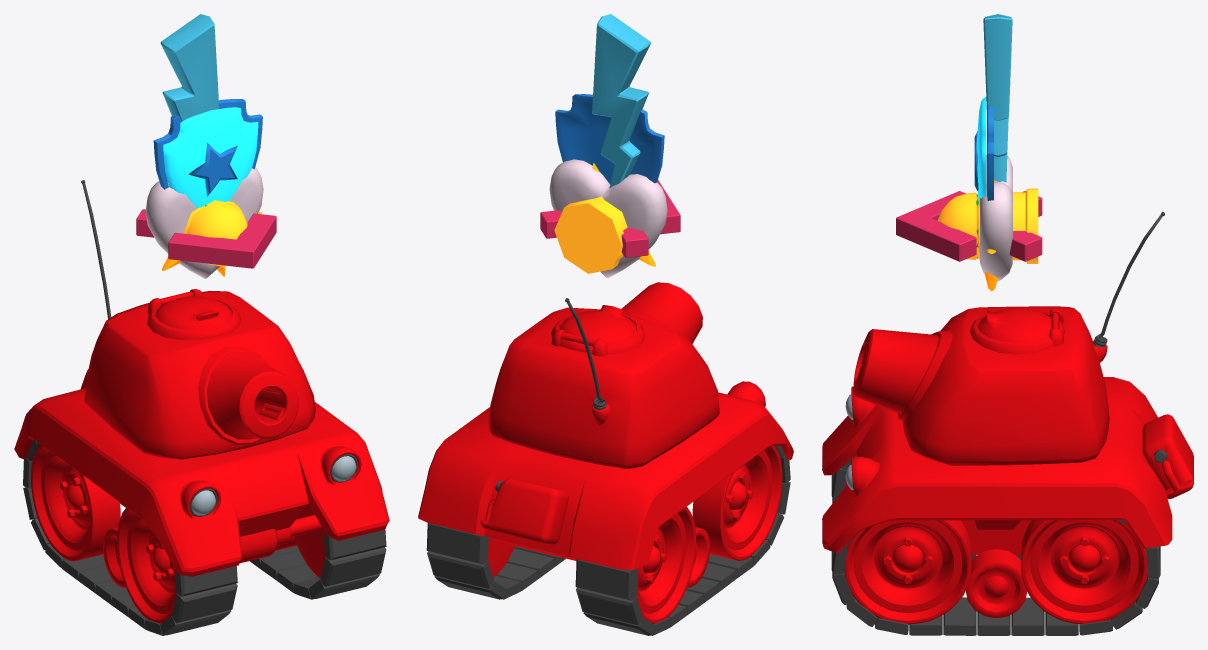
Rendered from Tank.fbx.
The picture shows the model from 3 angles, left to right: view 1: azimuth 30°, elevation 25°; view 2: azimuth 150°, elevation 25°; view 3: azimuth 270°, elevation 25°; orthographic projection. The views are drawn at different scales.
Visible parts, largest first — view 1: TankChassis, TankTurret, TankTracksRight, TankTracksLeft, SheltdFront, EnhanchedShootingIndicator, EnhancedSpeedIndicator, Heart, EnhancedShellIndicator, Sheild, mesh_x_coin_1_new002; view 2: TankChassis, TankTurret, TankTracksRight, TankTracksLeft, EnhanchedShootingIndicator, Heart, Sheild, EnhancedShellIndicator, EnhancedSpeedIndicator; view 3: TankChassis, TankTurret, TankTracksLeft, EnhancedSpeedIndicator, EnhanchedShootingIndicator, Heart, EnhancedShellIndicator, SheltdFront, Sheild.
Boxes of the visible parts, <box> form: TankChassis: <box>14,369,389,587</box>; TankTurret: <box>81,180,315,459</box>; TankTracksRight: <box>23,439,237,635</box>; TankTracksLeft: <box>249,504,386,599</box>; SheltdFront: <box>163,107,258,207</box>; EnhanchedShootingIndicator: <box>160,14,218,124</box>; EnhancedSpeedIndicator: <box>136,209,276,268</box>; Heart: <box>145,167,263,278</box>; EnhancedShellIndicator: <box>183,200,247,266</box>; Sheild: <box>153,99,262,189</box>; mesh_x_coin_1_new002: <box>188,143,237,196</box>; TankChassis: <box>418,381,793,587</box>; TankTurret: <box>488,282,719,468</box>; TankTracksRight: <box>575,445,790,635</box>; TankTracksLeft: <box>426,523,565,599</box>; EnhanchedShootingIndicator: <box>592,14,650,188</box>; Heart: <box>549,159,667,278</box>; Sheild: <box>555,94,664,184</box>; EnhancedShellIndicator: <box>554,196,627,273</box>; EnhancedSpeedIndicator: <box>540,180,680,257</box>; TankChassis: <box>822,377,1193,617</box>; TankTurret: <box>853,211,1164,465</box>; TankTracksLeft: <box>831,520,1160,635</box>; EnhancedSpeedIndicator: <box>896,191,1042,261</box>; EnhanchedShootingIndicator: <box>983,14,1012,182</box>; Heart: <box>980,155,1012,281</box>; EnhancedShellIndicator: <box>937,188,1038,263</box>; SheltdFront: <box>976,97,986,208</box>; Sheild: <box>987,106,993,200</box>.
Bounding box in the file's own units: 170 × 401 × 237.
